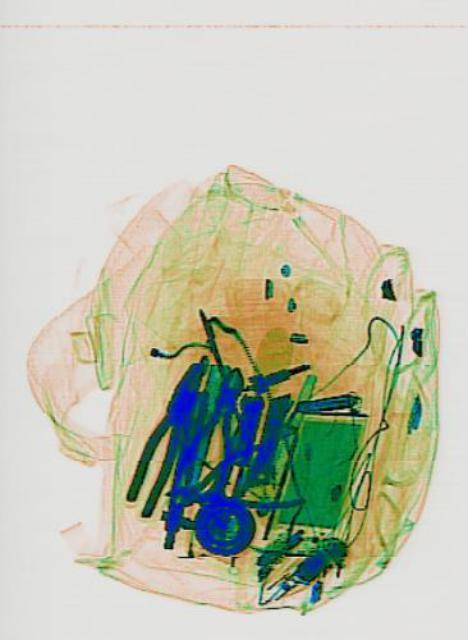Pliers: (157, 422, 307, 538), (118, 351, 212, 519)
